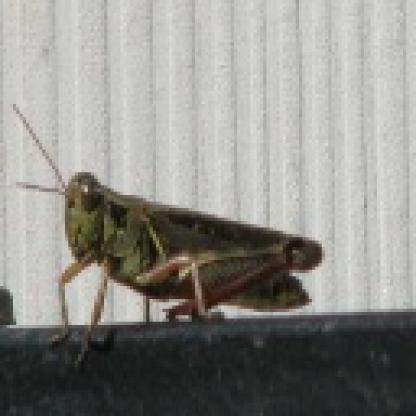grasshopper: (10, 103, 323, 360)
